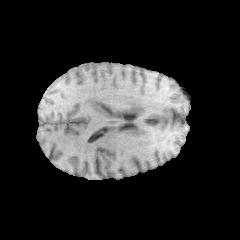glioma: (77, 90, 114, 115)
